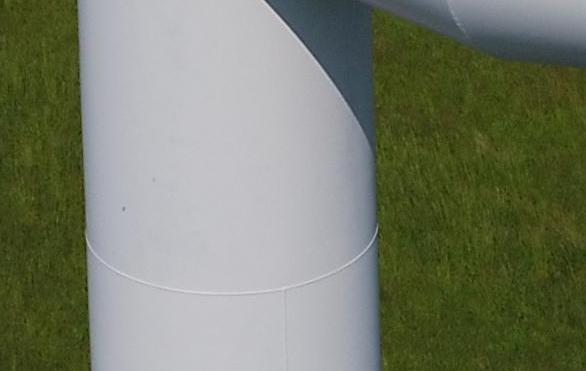damage: (121, 205, 126, 212)
